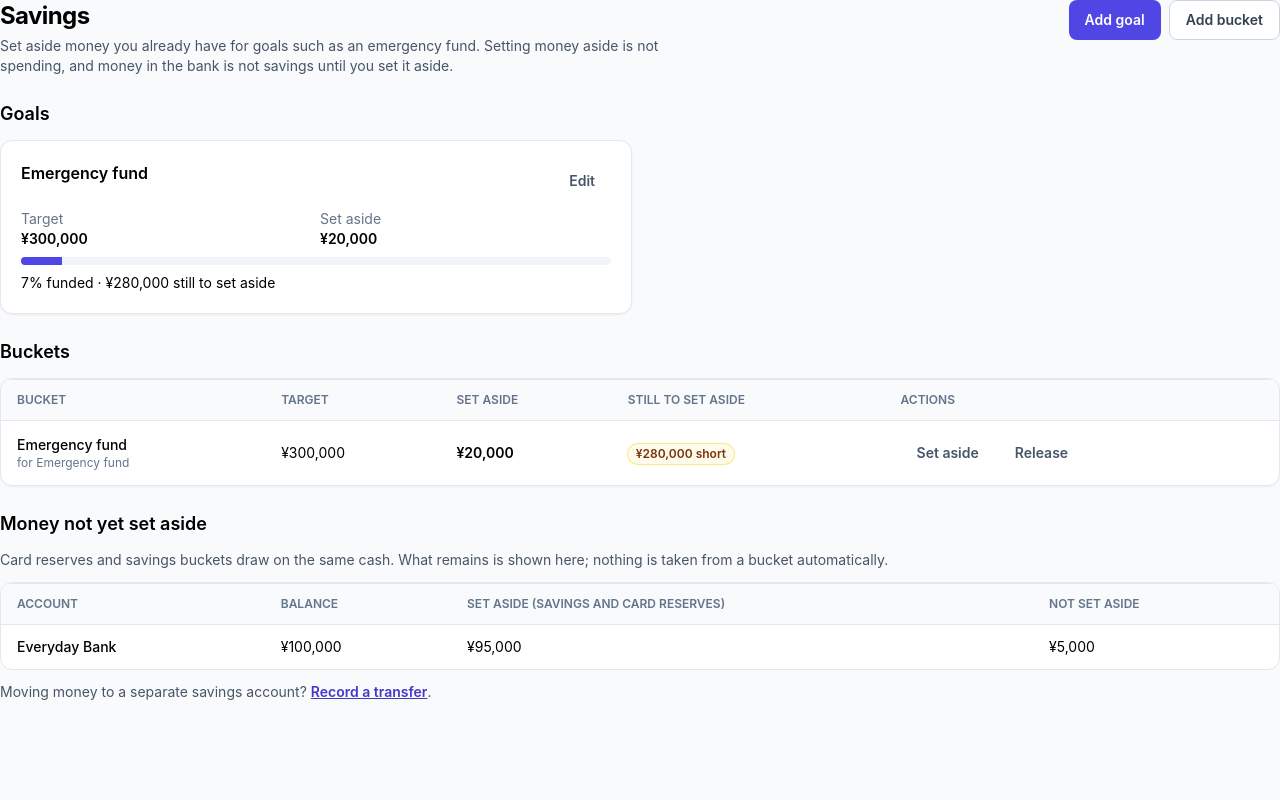
Test: savings › shows a funding conflict, keeps the input and refetches allocations
Click the button named "Set aside for Emergency fund" at (948, 453), box top-left (900, 433), bottom-right (995, 473)
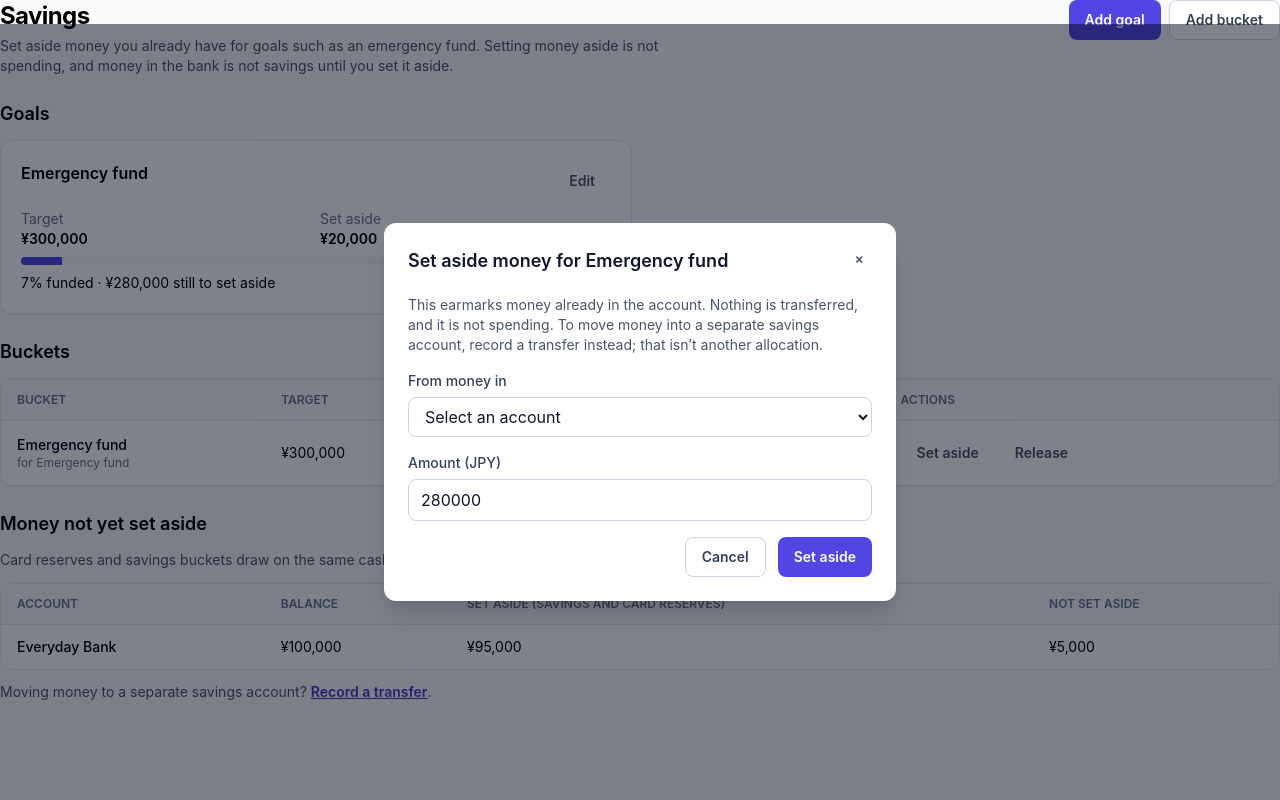
Select "Everyday Bank · ¥5,000 unreserved" in the dropdown labelled "From money in" at (640, 417), box top-left (408, 397), bottom-right (872, 437)
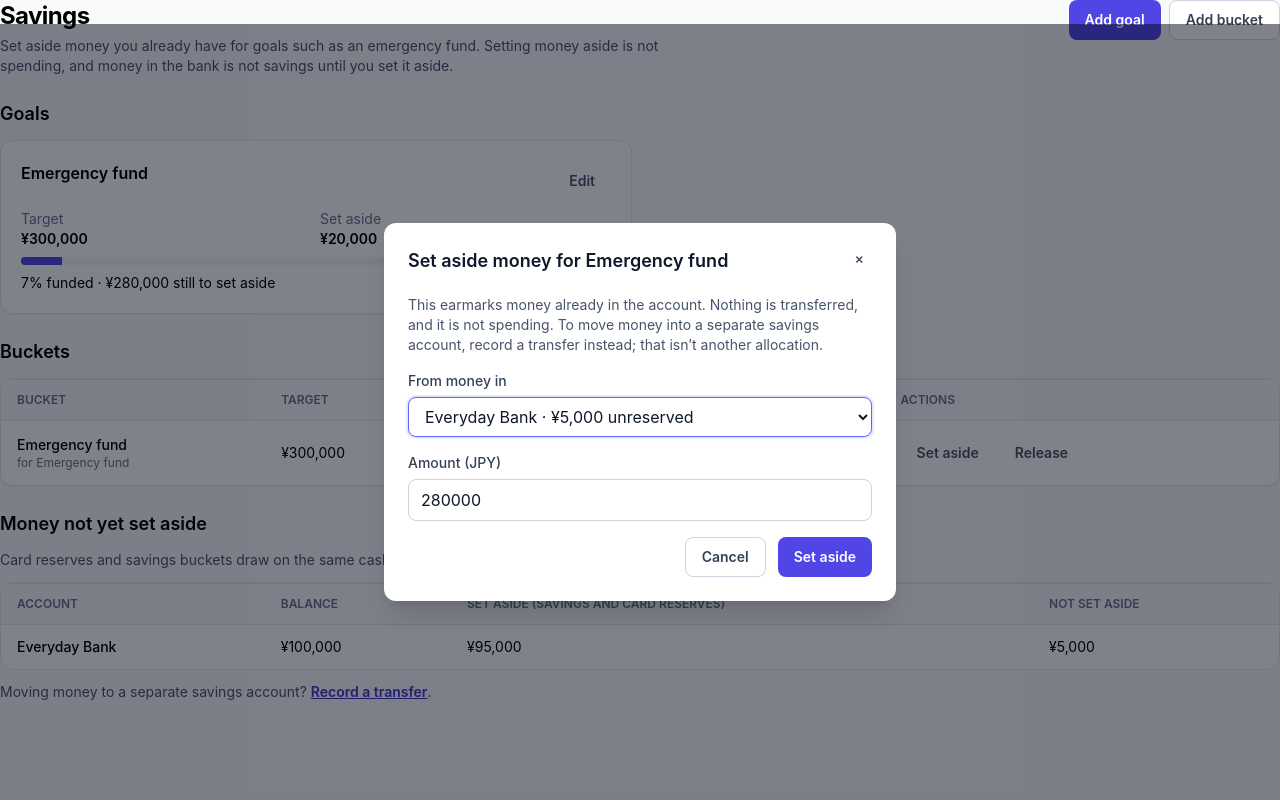
Click the button "Set aside" at (825, 557), box top-left (778, 537), bottom-right (872, 577)
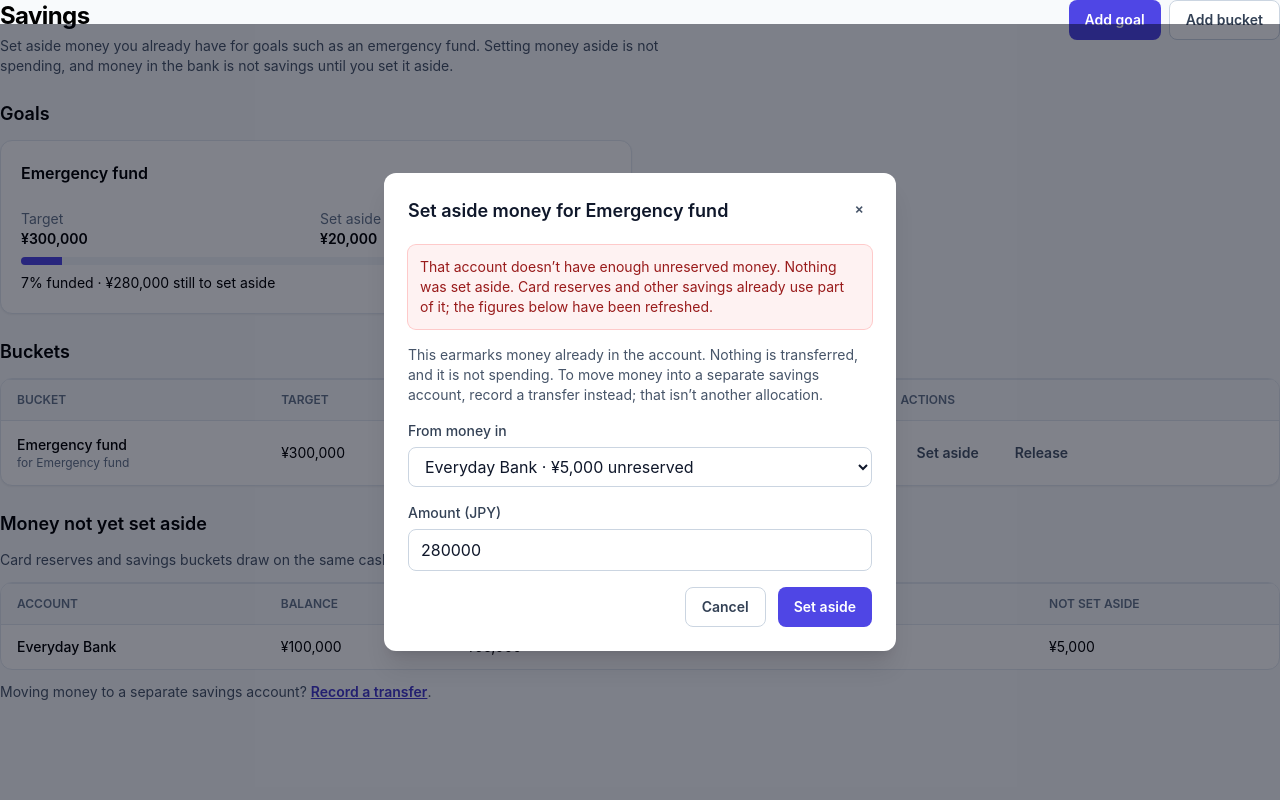
Expected: the field labelled "Amount (JPY)" holds "280000", top-left (408, 529), bottom-right (872, 571)
Expected: the message shows "doesn’t have enough unreserved money. Nothing was set aside.", top-left (420, 258), bottom-right (844, 315)
